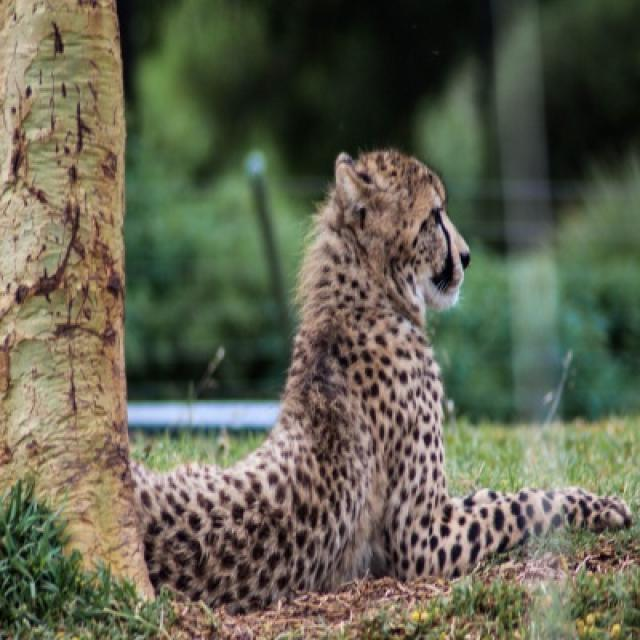Cheetah: (133, 149, 632, 618)
